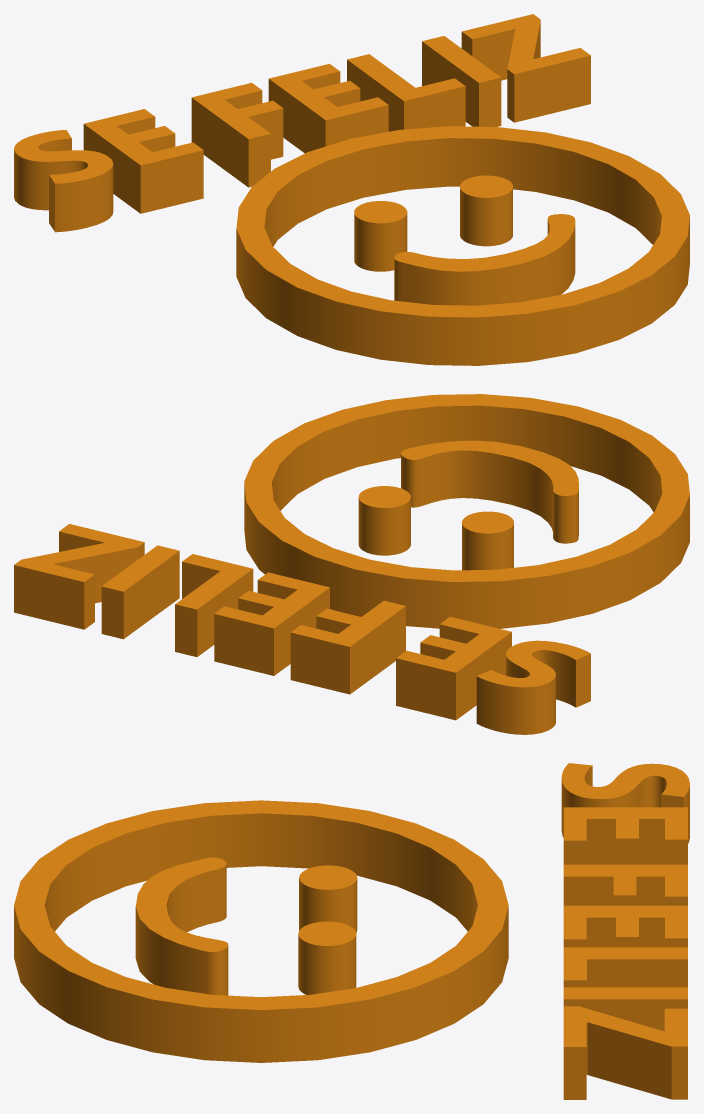
File: cara2.obj
3 renders of one model, top to bottom at view 1: azimuth 30°, elevation 25°; view 2: azimuth 150°, elevation 25°; view 3: azimuth 270°, elevation 25°, orthographic. The views are drawn at different scales.
Parts seen in each view (by area): view 1: Shape1; view 2: Shape1; view 3: Shape1.
Part boxes in pixels (box(x1,y1,x2,y2)): Shape1: box(14, 14, 689, 365); Shape1: box(14, 394, 689, 734); Shape1: box(14, 763, 689, 1099).
Bounding box in the file's own units: 23.05 × 2 × 23.19.
